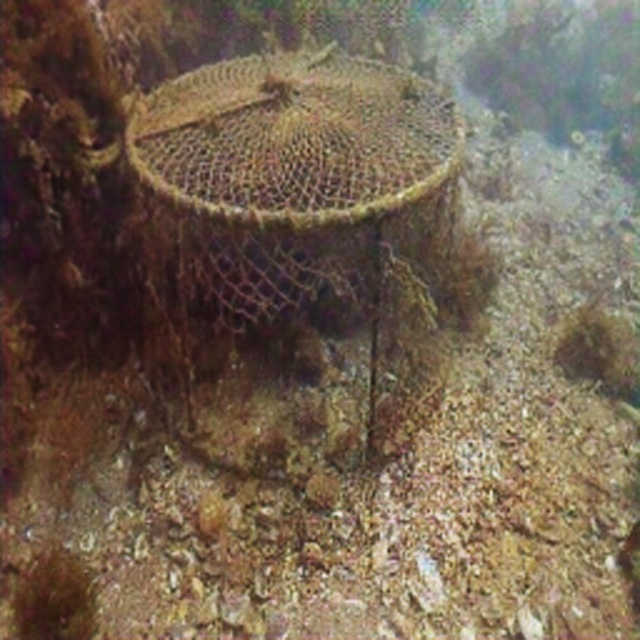mine: (123, 48, 465, 482)
